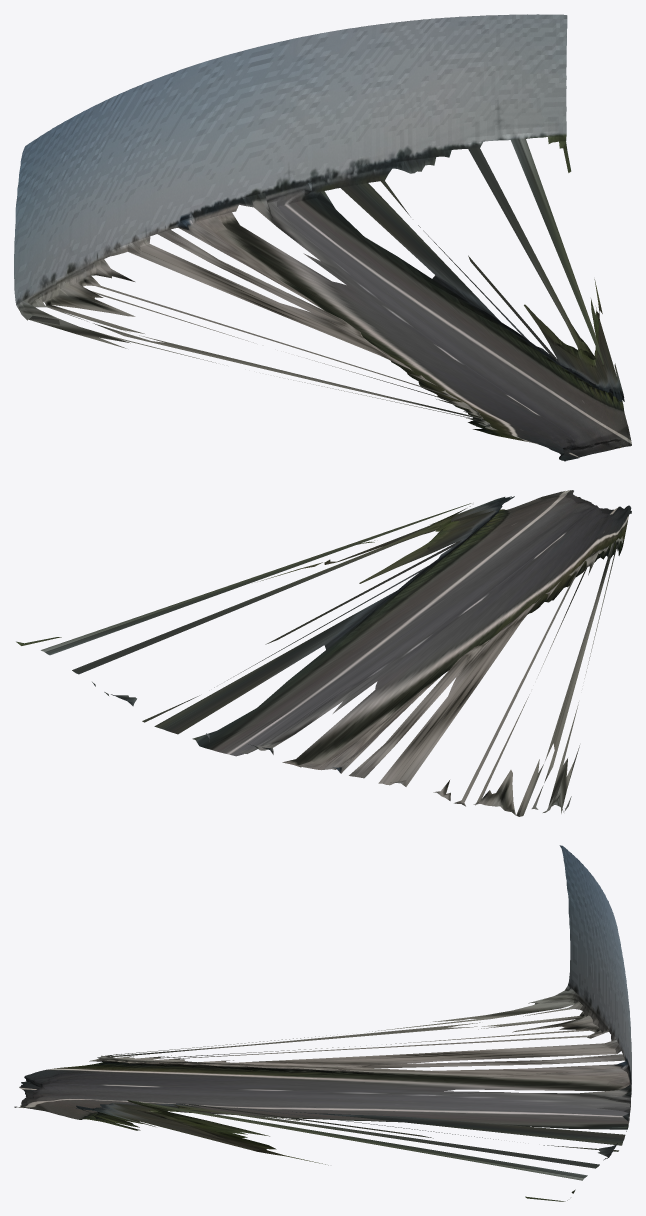
3 renders of one model, top to bottom at view 1: azimuth 30°, elevation 25°; view 2: azimuth 150°, elevation 25°; view 3: azimuth 270°, elevation 25°, orthographic. The views are drawn at different scales.
Parts seen in each view (by area): view 1: defaultobject; view 2: defaultobject; view 3: defaultobject.
Part boxes in pixels (bbox=[...]): defaultobject: bbox=[14, 14, 631, 461]; defaultobject: bbox=[16, 490, 631, 816]; defaultobject: bbox=[14, 845, 631, 1201].
Size of the model in its own units: 41.16 by 13.32 by 44.74.
Materials: 1 (1 with a texture image).
